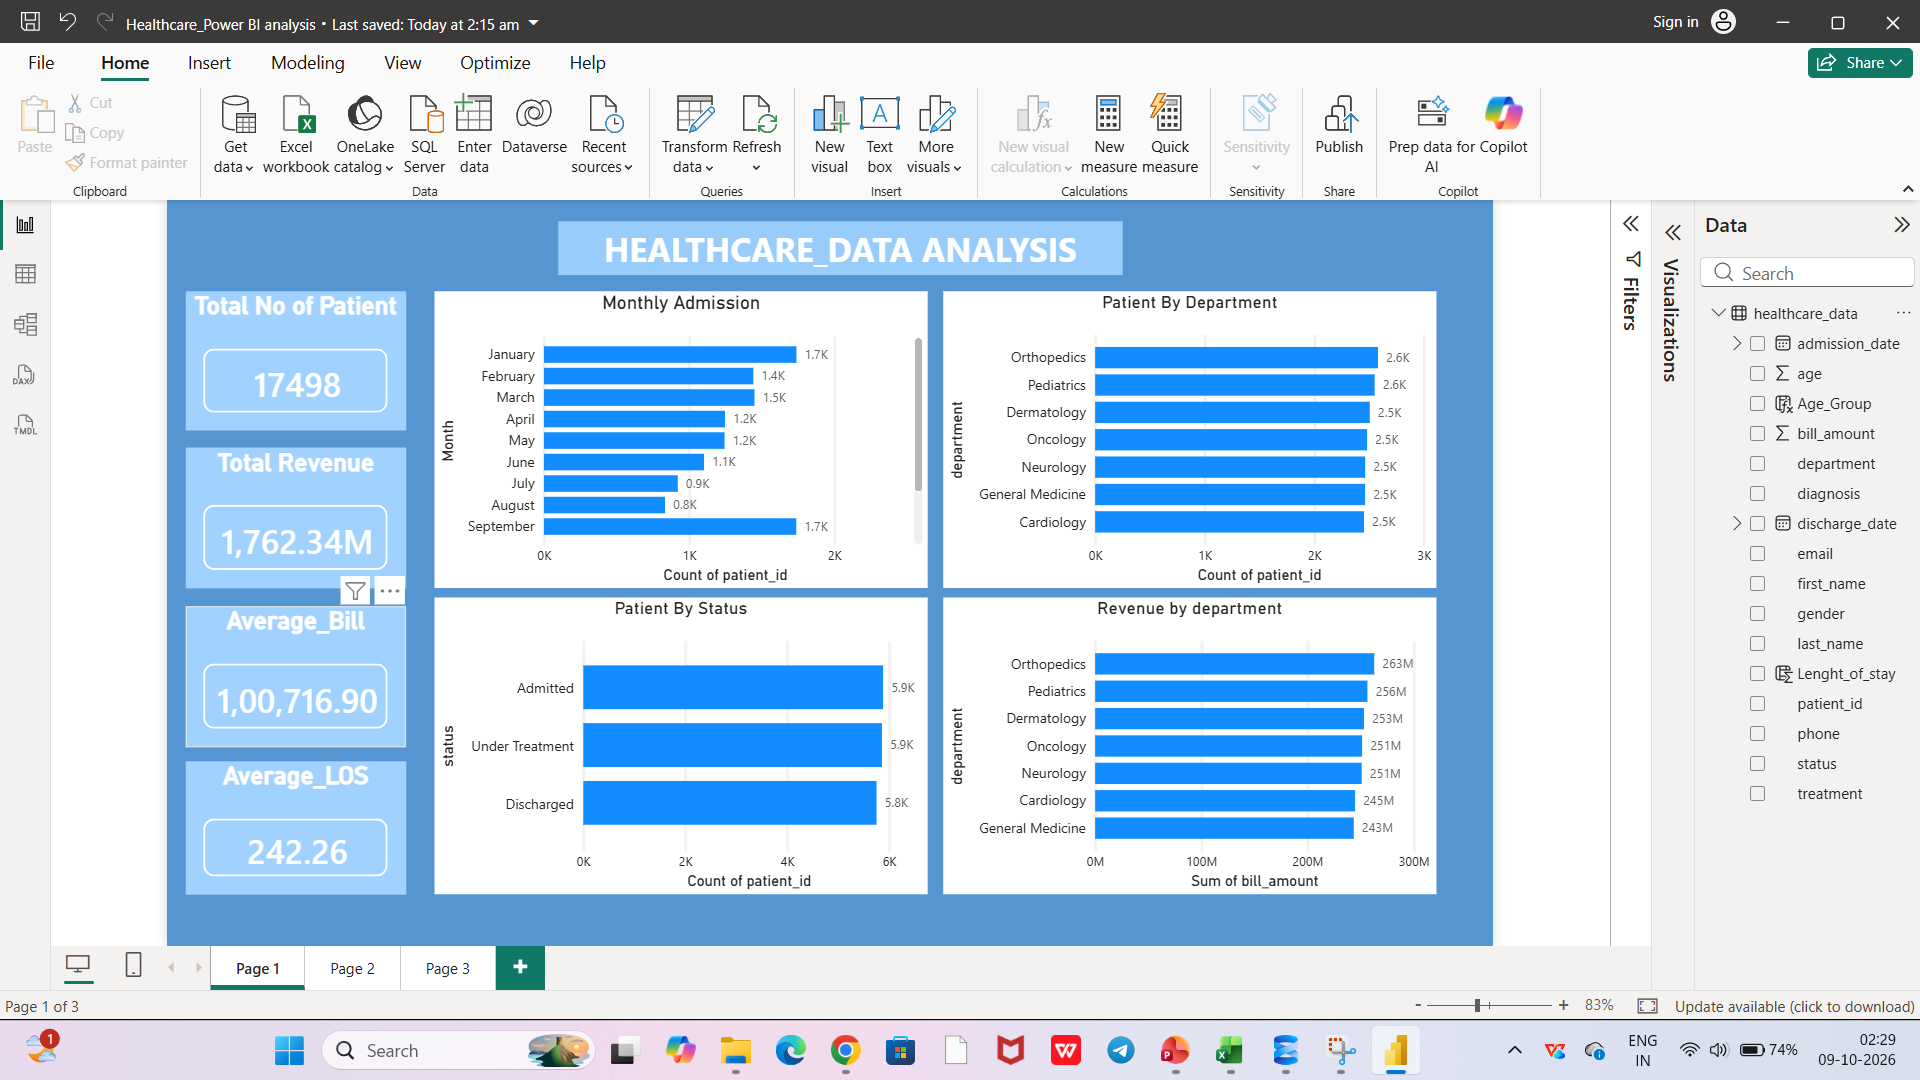

The page's visual inventory and layout, read from the dashboard file:
{"tool":"powerbi","page":{"name":"Page 1","canvas":[1280,720],"ordinal":0},"visuals":[{"type":"textbox","box":[377.4,20.6,544.8,52.1],"z":0},{"type":"cardVisual","title":"Total No of Patient","fields":{"Data":["Count(healthcare_data.patient_id)"]},"box":[17.8,87.8,212.7,134.5],"z":1000},{"type":"cardVisual","title":"Total Revenue","fields":{"Data":["Sum(healthcare_data.bill_amount)"]},"box":[17.8,238.8,212.7,135.8],"z":2000},{"type":"cardVisual","title":"Average_Bill","fields":{"Data":["Avg(healthcare_data.bill_amount)"]},"box":[17.8,392.5,212.7,135.8],"z":3000},{"type":"cardVisual","title":"Average_LOS","fields":{"Data":["Avg(healthcare_data.Lenght_of_stay)"]},"box":[17.8,542,212.7,129],"z":4000},{"type":"barChart","title":"Monthly Admission","fields":{"Y":["CountNonNull(healthcare_data.patient_id)"],"Category":["healthcare_data.admission_date.Variation.Date Hierarchy.Month"]},"box":[258,87.8,476.2,286.8],"z":5000},{"type":"barChart","title":"Patient By Department","fields":{"Y":["CountNonNull(healthcare_data.patient_id)"],"Category":["healthcare_data.department"]},"box":[749.2,87.8,476.2,286.8],"z":6000},{"type":"barChart","title":"Patient By Status","fields":{"Y":["CountNonNull(healthcare_data.patient_id)"],"Category":["healthcare_data.status"]},"box":[258,384.2,476.2,286.8],"z":7000},{"type":"barChart","title":"Revenue by department","fields":{"Y":["Sum(healthcare_data.bill_amount)"],"Category":["healthcare_data.department"]},"box":[749.2,384.2,476.2,286.8],"z":8000}]}

Visuals, with their boxes on the page's 1280x720 design canvas (x1, y1, x2, y2). These are canvas units, not pixel positions in the 1920x1080 screenshot, which may show the page scaled, cropped or inside an application window:
textbox: region(377, 21, 922, 73)
"Total No of Patient" cardVisual: region(18, 88, 230, 222)
"Total Revenue" cardVisual: region(18, 239, 230, 375)
"Average_Bill" cardVisual: region(18, 392, 230, 528)
"Average_LOS" cardVisual: region(18, 542, 230, 671)
"Monthly Admission" barChart: region(258, 88, 734, 375)
"Patient By Department" barChart: region(749, 88, 1225, 375)
"Patient By Status" barChart: region(258, 384, 734, 671)
"Revenue by department" barChart: region(749, 384, 1225, 671)
